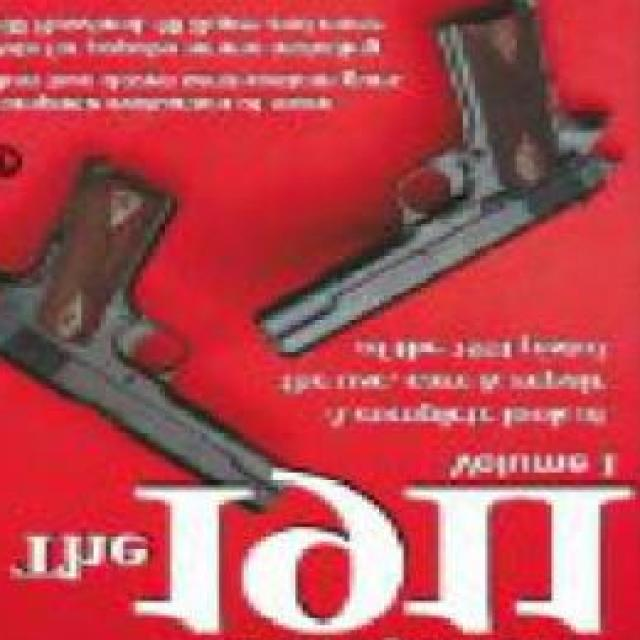pistol: (236, 0, 618, 367), (0, 160, 295, 520)
